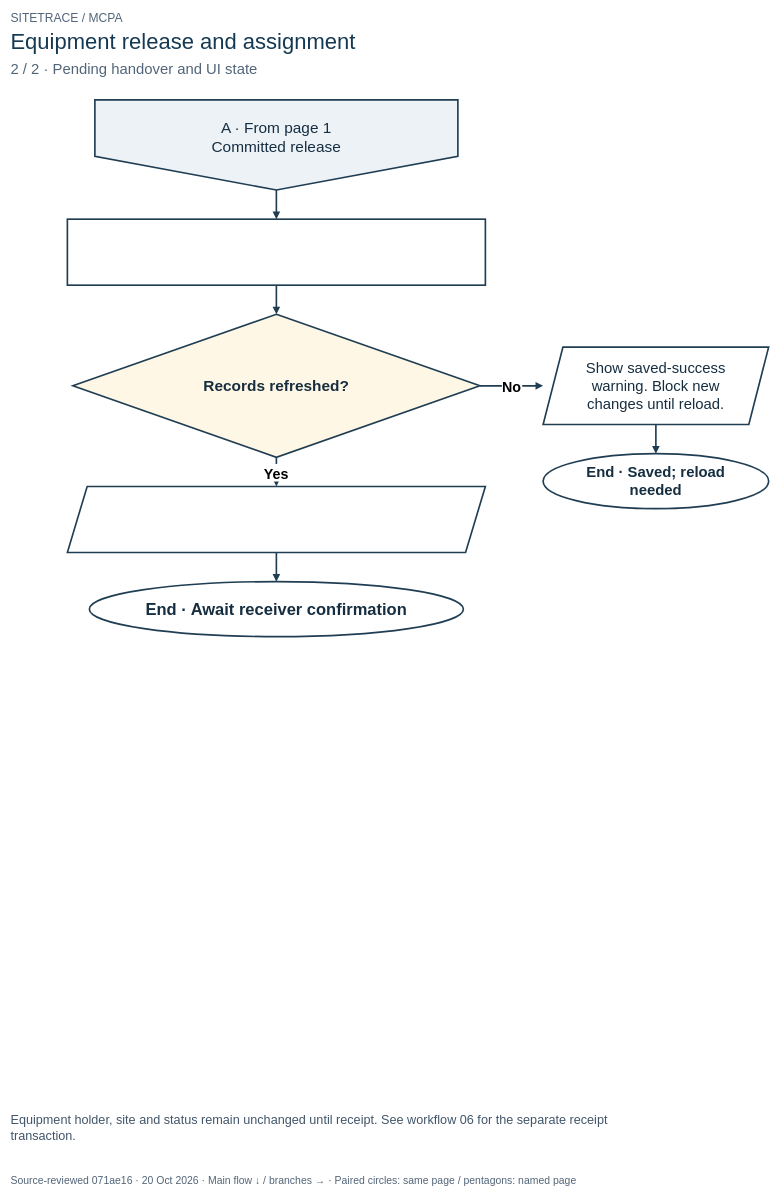
This 779x1198 diagram has some shape labels left out. Each missing label, with the centre of its shape:
"Display Pending handover for the named receiver to inspect." belongs at (x=276, y=519).
"Reload movement records for the UI." belongs at (x=276, y=252).
